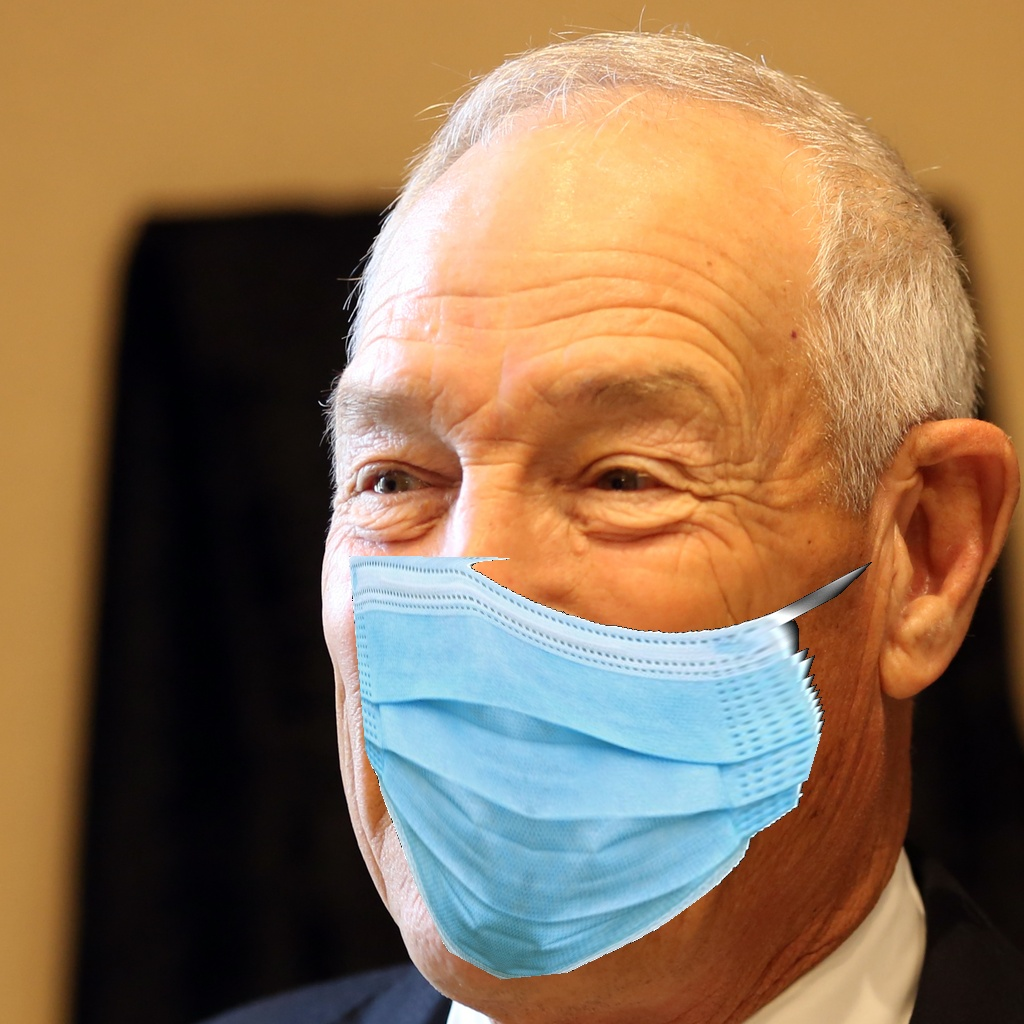Mask: (341, 325, 876, 984)
